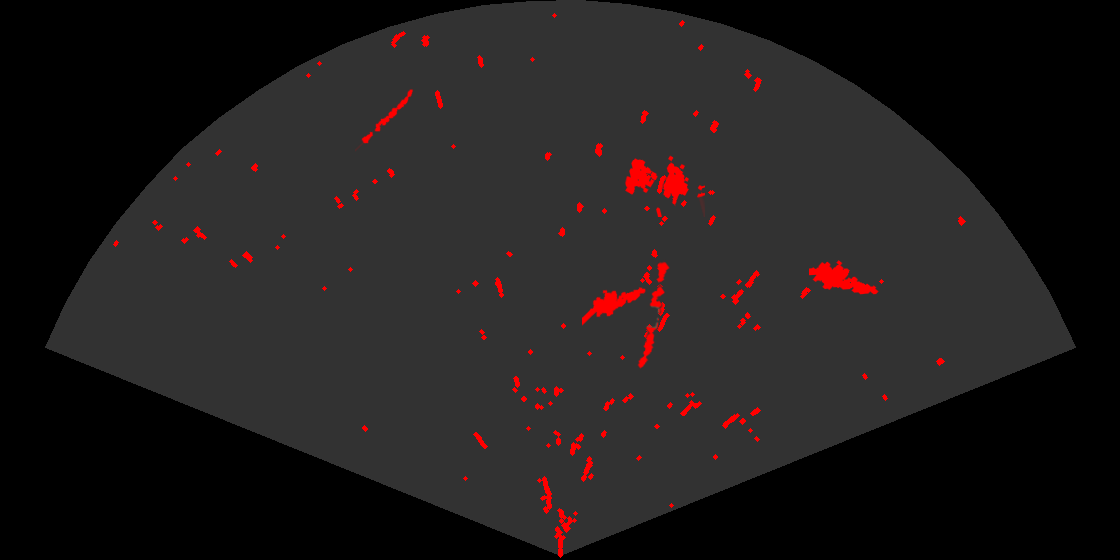cage: (624, 154, 705, 217)
chain: (355, 87, 415, 153), (636, 259, 671, 370)
frogman: (582, 286, 647, 327), (809, 259, 880, 296)
